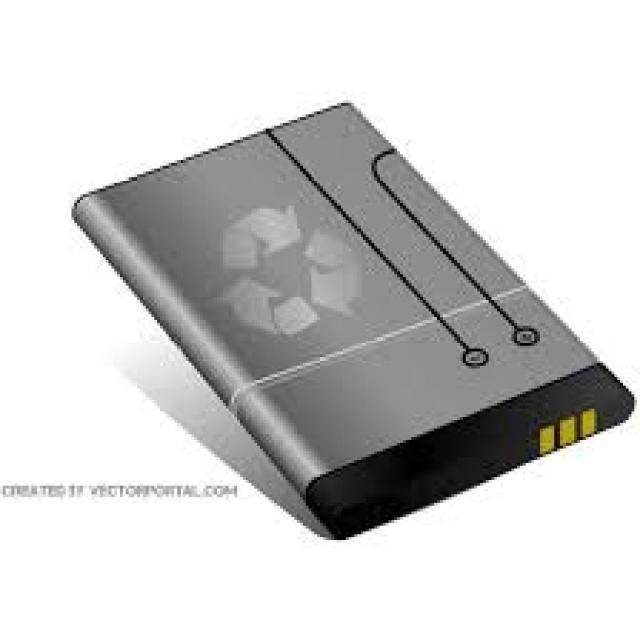battery: (68, 98, 630, 538)
